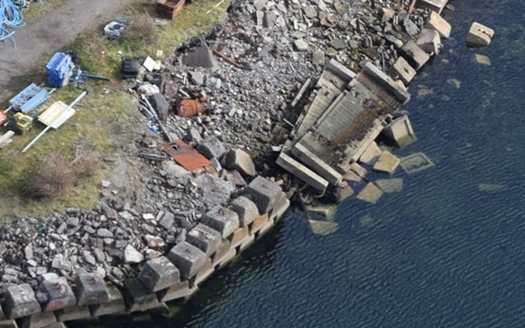cuboid: (289, 60, 413, 190), (161, 135, 215, 174)
together_barrel: (1, 49, 90, 160), (121, 51, 211, 121)
tube: (211, 46, 245, 69)
white_in_green: (161, 77, 223, 131)
